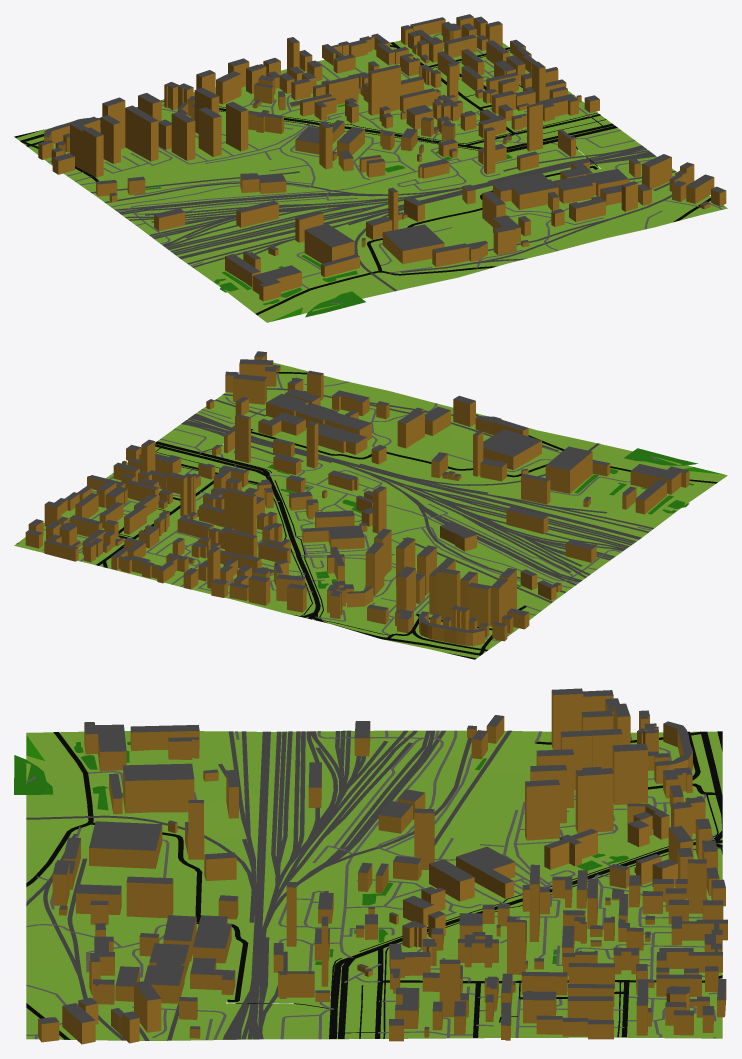
The model's file is tile_02_03.glb.
3 views of the same model, one above another, from view 1: azimuth 30°, elevation 25°; view 2: azimuth 150°, elevation 25°; view 3: azimuth 270°, elevation 25° (orthographic). The views are drawn at different scales.
Parts seen in each view (by area): view 1: Ub_small.osm_buildings_02_03, Terrain_02_03, Ub_small.osm_railways_02_03, Ub_small.osm_roads_service_02_03, Ub_small.osm_forest_02_03, Ub_small.osm_roads_tertiary_02_03, Ub_small.osm_roads_primary_02_03, Ub_small.osm_paths_footway_02_03; view 2: Ub_small.osm_buildings_02_03, Terrain_02_03, Ub_small.osm_railways_02_03, Ub_small.osm_roads_service_02_03, Ub_small.osm_forest_02_03, Ub_small.osm_roads_primary_02_03, Ub_small.osm_roads_tertiary_02_03, Ub_small.osm_paths_footway_02_03, Ub_small.osm_roads_trunk_02_03; view 3: Ub_small.osm_buildings_02_03, Terrain_02_03, Ub_small.osm_railways_02_03, Ub_small.osm_roads_service_02_03, Ub_small.osm_roads_tertiary_02_03, Ub_small.osm_forest_02_03, Ub_small.osm_roads_primary_02_03, Ub_small.osm_paths_footway_02_03, Ub_small.osm_roads_trunk_02_03.
Part boxes in pixels (x1,y1,x2,y2): Ub_small.osm_buildings_02_03: (38,14,726,301); Terrain_02_03: (16,32,727,322); Ub_small.osm_railways_02_03: (91,145,690,290); Ub_small.osm_roads_service_02_03: (48,33,724,304); Ub_small.osm_forest_02_03: (145,104,512,317); Ub_small.osm_roads_tertiary_02_03: (255,42,600,315); Ub_small.osm_roads_primary_02_03: (219,108,616,151); Ub_small.osm_paths_footway_02_03: (162,50,617,166); Ub_small.osm_buildings_02_03: (25,351,689,646); Terrain_02_03: (14,362,727,659); Ub_small.osm_railways_02_03: (181,388,653,603); Ub_small.osm_roads_service_02_03: (16,372,658,641); Ub_small.osm_forest_02_03: (267,448,697,588); Ub_small.osm_roads_primary_02_03: (155,441,320,619); Ub_small.osm_roads_tertiary_02_03: (96,429,717,567); Ub_small.osm_paths_footway_02_03: (69,441,389,635); Ub_small.osm_roads_trunk_02_03: (300,612,482,659); Ub_small.osm_buildings_02_03: (38,688,727,1044); Terrain_02_03: (26,730,722,1040); Ub_small.osm_railways_02_03: (26,730,511,1040); Ub_small.osm_roads_service_02_03: (26,730,717,1039); Ub_small.osm_roads_tertiary_02_03: (26,732,722,1038); Ub_small.osm_forest_02_03: (14,741,628,964); Ub_small.osm_roads_primary_02_03: (330,840,722,1038); Ub_small.osm_paths_footway_02_03: (235,795,722,1039); Ub_small.osm_roads_trunk_02_03: (701,731,722,848).
Bounding box in the file's own units: 1003 × 98.53 × 954.
